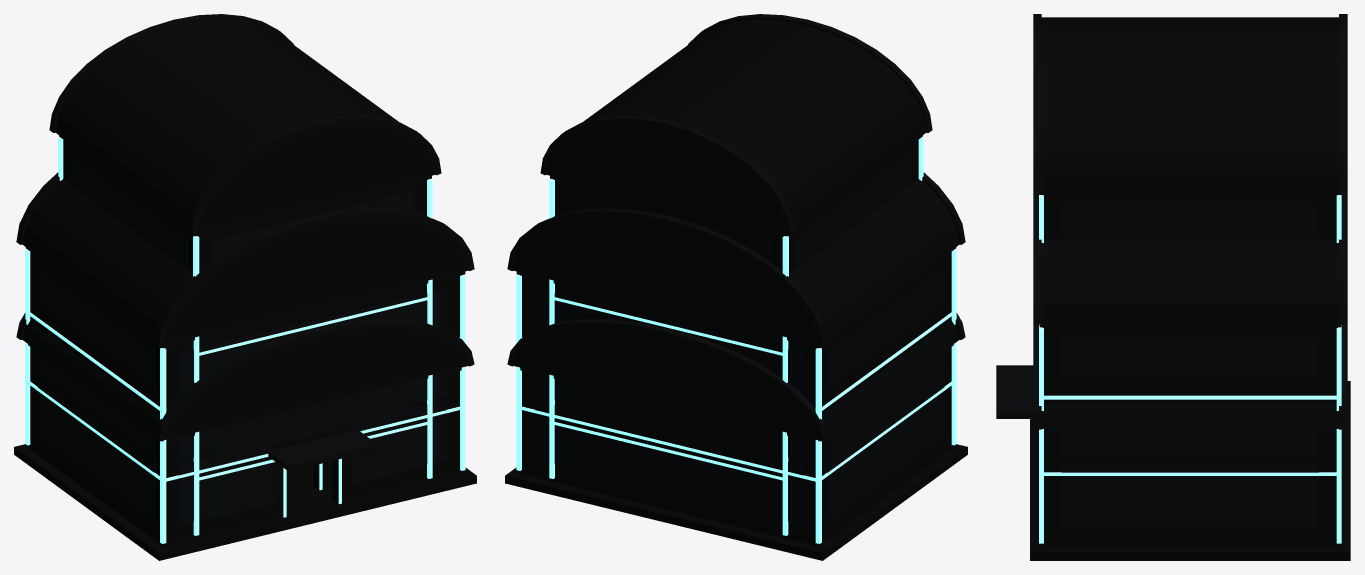
Rendered from shaddai_realm_town_grid_v01.glb.
The picture shows the model from 3 angles, left to right: view 1: azimuth 30°, elevation 25°; view 2: azimuth 150°, elevation 25°; view 3: azimuth 270°, elevation 25°; orthographic projection. The views are drawn at different scales.
Visible parts, largest first — view 1: shaddai_bld_grid_apartments, shaddai_bld_grid_inn, shaddai_bld_grid_workshop, shaddai_bld_grid_home; view 2: shaddai_bld_grid_apartments, shaddai_bld_grid_inn, shaddai_bld_grid_workshop; view 3: shaddai_bld_grid_inn, shaddai_bld_grid_apartments, shaddai_bld_grid_workshop.
Boxes of the visible parts, x1,y1,x2,y2 form: shaddai_bld_grid_apartments: (49,14,443,552); shaddai_bld_grid_inn: (14,172,476,560); shaddai_bld_grid_workshop: (16,313,474,545); shaddai_bld_grid_home: (268,429,358,490); shaddai_bld_grid_apartments: (538,14,932,552); shaddai_bld_grid_inn: (505,172,967,560); shaddai_bld_grid_workshop: (507,313,965,545); shaddai_bld_grid_inn: (1030,192,1350,560); shaddai_bld_grid_apartments: (996,14,1350,497); shaddai_bld_grid_workshop: (1033,324,1347,546).
Bounding box in the file's own units: 19.2 × 22.95 × 16.8.
